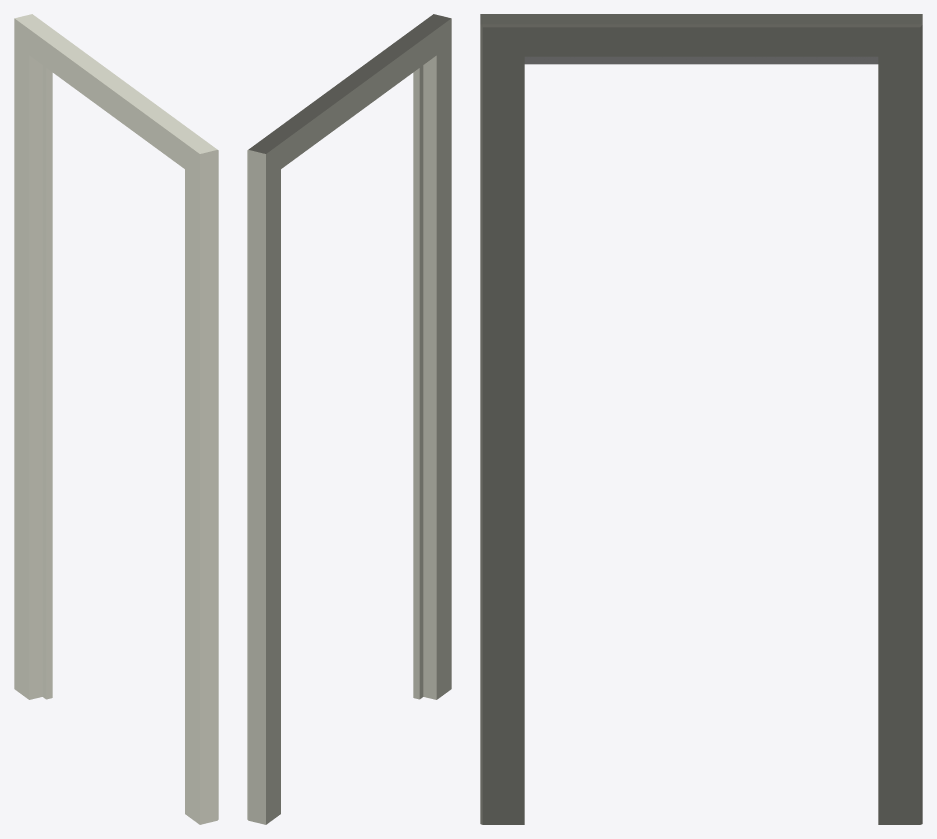
File: FP427:polySurface180_0aa52dff.obj
3 views of the same model, side by side, from view 1: azimuth 30°, elevation 25°; view 2: azimuth 150°, elevation 25°; view 3: azimuth 270°, elevation 25° (orthographic). The views are drawn at different scales.
Parts seen in each view (by area): view 1: FP427:polySurface180_0aa52dff; view 2: FP427:polySurface180_0aa52dff; view 3: FP427:polySurface180_0aa52dff.
Part boxes in pixels (bbox=[...]): FP427:polySurface180_0aa52dff: bbox=[14, 14, 218, 824]; FP427:polySurface180_0aa52dff: bbox=[247, 14, 451, 824]; FP427:polySurface180_0aa52dff: bbox=[480, 14, 922, 824].
Size of the model in its own units: 0.068 by 2.24 by 1.12.
